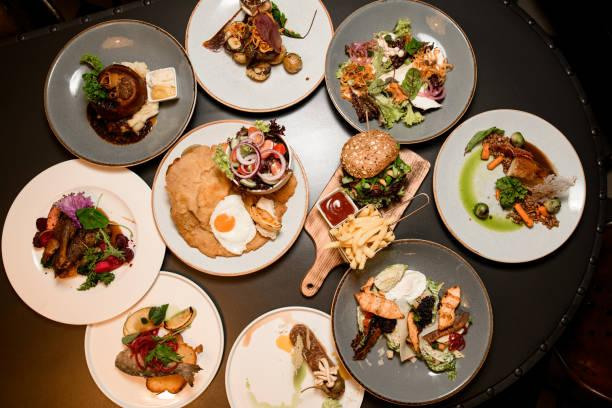Braised Crucian Carp: (328, 238, 491, 405), (149, 120, 305, 277), (431, 108, 585, 266), (43, 18, 196, 168), (324, 0, 476, 146), (85, 271, 224, 407), (183, 0, 330, 114), (223, 306, 363, 407)
